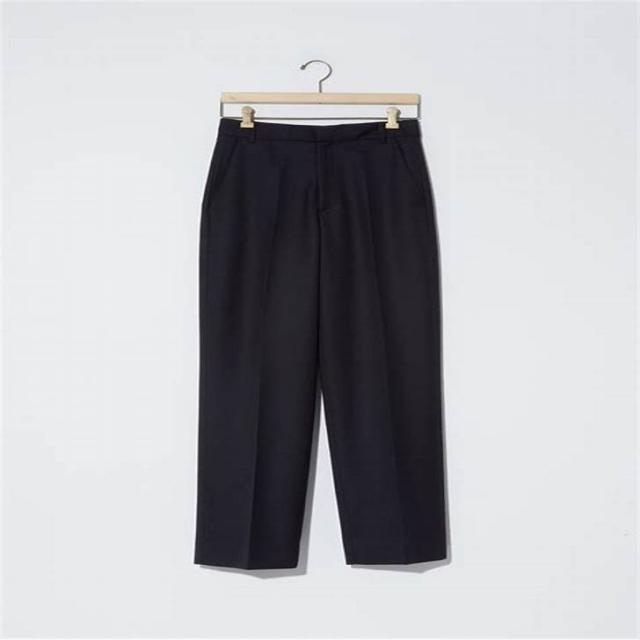long-pants: (190, 118, 450, 572)
